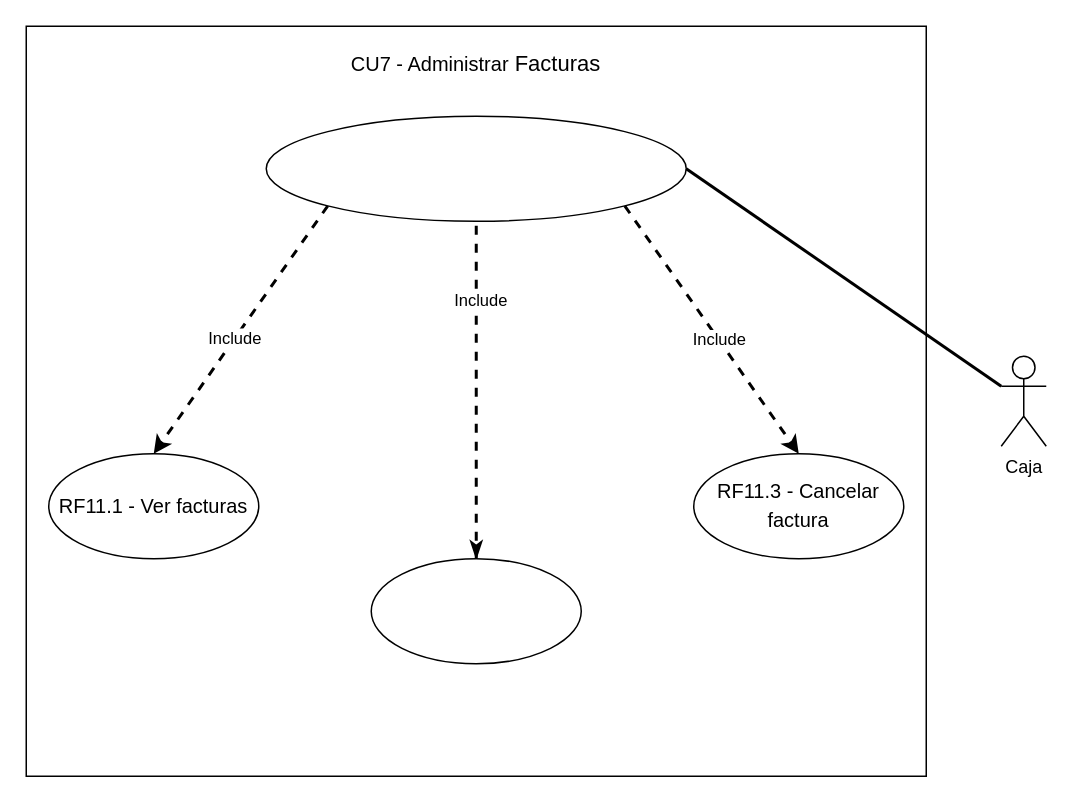
Some shapes in this 1073 by 803 pixel diagram are drawn without their labels. Each missing label, with the centre of its shape:
"RF11 - Administración de facturas" belongs at [475,168].
"RF11.2 - Pagar facturas" belongs at [475,610].
